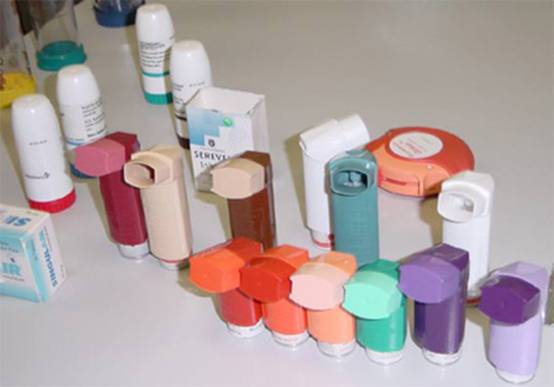Medicine: (73, 129, 146, 269), (399, 247, 476, 370), (300, 116, 370, 247), (478, 262, 551, 387), (7, 92, 78, 211), (126, 141, 190, 270), (322, 153, 392, 269), (373, 121, 477, 197), (289, 250, 359, 362), (344, 253, 411, 368), (239, 249, 309, 354), (184, 240, 258, 339), (0, 204, 67, 311), (184, 87, 278, 158), (207, 150, 277, 244), (438, 168, 494, 250), (132, 2, 177, 104), (52, 63, 108, 143), (159, 39, 209, 104)
